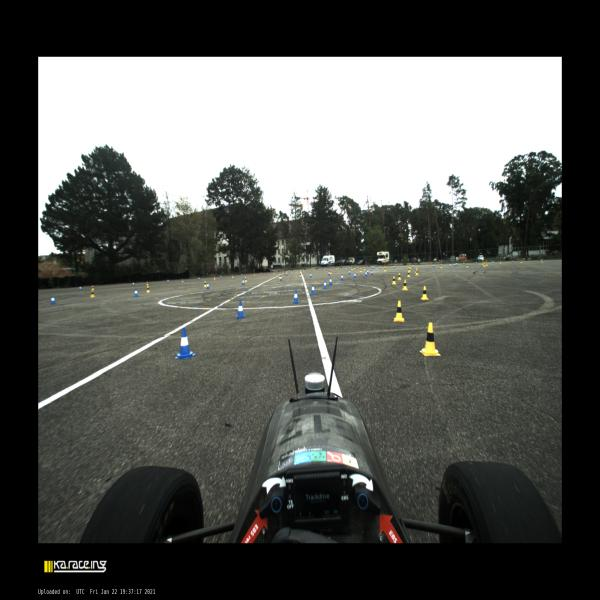blue_cone: (174, 328, 196, 360), (236, 300, 246, 319), (292, 290, 300, 304), (50, 295, 56, 305), (310, 284, 315, 294), (134, 288, 139, 297), (323, 280, 327, 290), (206, 282, 210, 290), (329, 277, 332, 285), (340, 274, 344, 280), (242, 278, 245, 286), (353, 272, 356, 278), (309, 272, 312, 278), (79, 285, 82, 290), (348, 270, 351, 274), (371, 269, 373, 275), (328, 270, 330, 276), (280, 276, 282, 281), (366, 271, 368, 276), (367, 269, 369, 274), (132, 281, 134, 286), (412, 264, 414, 268), (463, 262, 465, 265), (453, 263, 455, 266), (167, 279, 169, 282), (198, 277, 200, 280), (379, 266, 381, 269), (512, 260, 514, 263), (311, 268, 313, 271), (260, 272, 262, 275), (220, 275, 222, 278), (492, 260, 493, 264), (456, 262, 457, 266), (450, 263, 451, 267), (433, 263, 434, 267), (393, 266, 395, 268), (370, 266, 372, 268), (372, 266, 374, 268), (301, 268, 302, 272), (276, 270, 277, 274), (241, 274, 243, 276), (476, 261, 477, 264), (373, 266, 374, 269), (348, 266, 349, 269), (325, 267, 326, 270), (372, 266, 373, 268), (338, 267, 339, 269), (367, 266, 368, 268), (290, 270, 290, 272), (358, 266, 358, 268)
yellow_cone: (419, 322, 441, 356), (393, 300, 405, 322), (421, 286, 430, 300), (403, 279, 408, 291), (90, 289, 95, 298), (146, 286, 151, 293), (392, 276, 396, 284), (398, 273, 402, 280), (406, 271, 410, 278), (204, 281, 207, 287), (416, 269, 418, 276), (408, 267, 410, 273), (329, 270, 332, 274), (245, 277, 247, 282), (484, 262, 486, 267), (466, 263, 468, 268), (415, 268, 417, 273), (300, 272, 302, 277), (92, 285, 94, 290), (278, 274, 280, 279), (440, 264, 442, 268), (520, 260, 522, 264), (486, 262, 488, 266), (384, 267, 386, 271), (360, 268, 362, 272), (146, 281, 148, 285), (541, 259, 543, 263), (353, 266, 355, 270), (345, 266, 347, 270), (336, 266, 338, 270), (254, 273, 256, 276), (313, 268, 315, 271), (500, 260, 501, 264), (482, 261, 483, 265), (182, 278, 183, 282), (214, 276, 215, 280), (232, 274, 233, 278), (364, 266, 365, 270), (351, 266, 352, 270), (304, 268, 305, 272), (410, 265, 411, 268), (352, 267, 353, 270), (324, 268, 325, 270), (384, 266, 385, 268), (274, 271, 274, 274), (292, 270, 292, 272)
